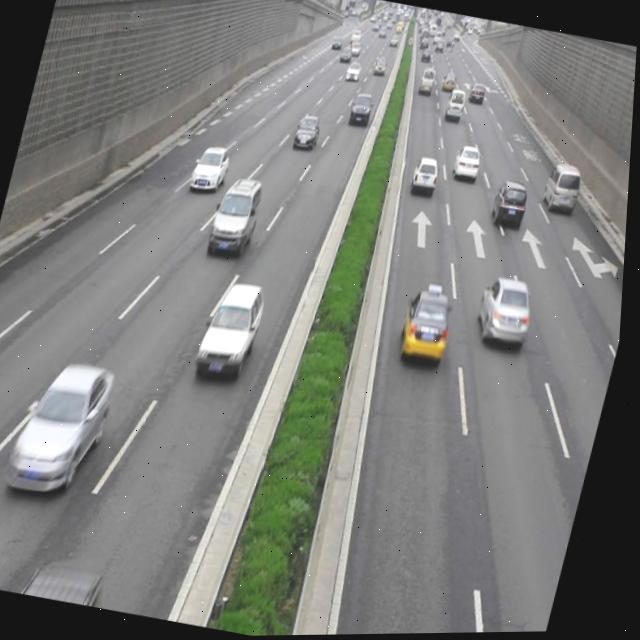car: (7, 348, 124, 503), (198, 277, 273, 382), (473, 271, 541, 352), (398, 285, 461, 367), (25, 555, 115, 609), (190, 143, 234, 197), (490, 179, 533, 233), (293, 111, 327, 155), (453, 142, 486, 184), (411, 154, 444, 195), (346, 92, 376, 130)
truck: (207, 175, 267, 260), (541, 161, 587, 218)
